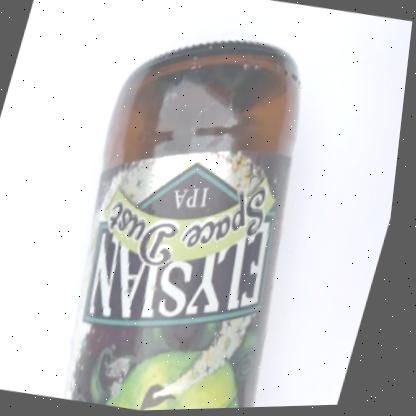Glass: (74, 42, 302, 412)
